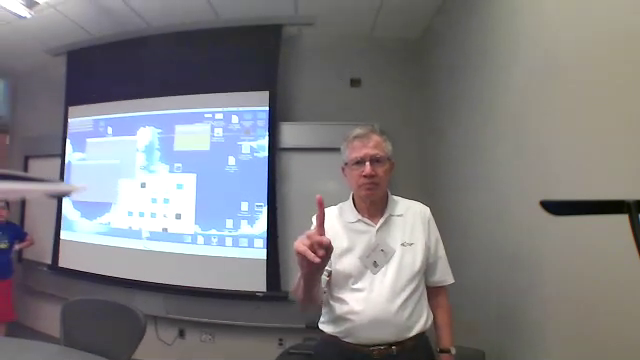up: (288, 191, 335, 278)
